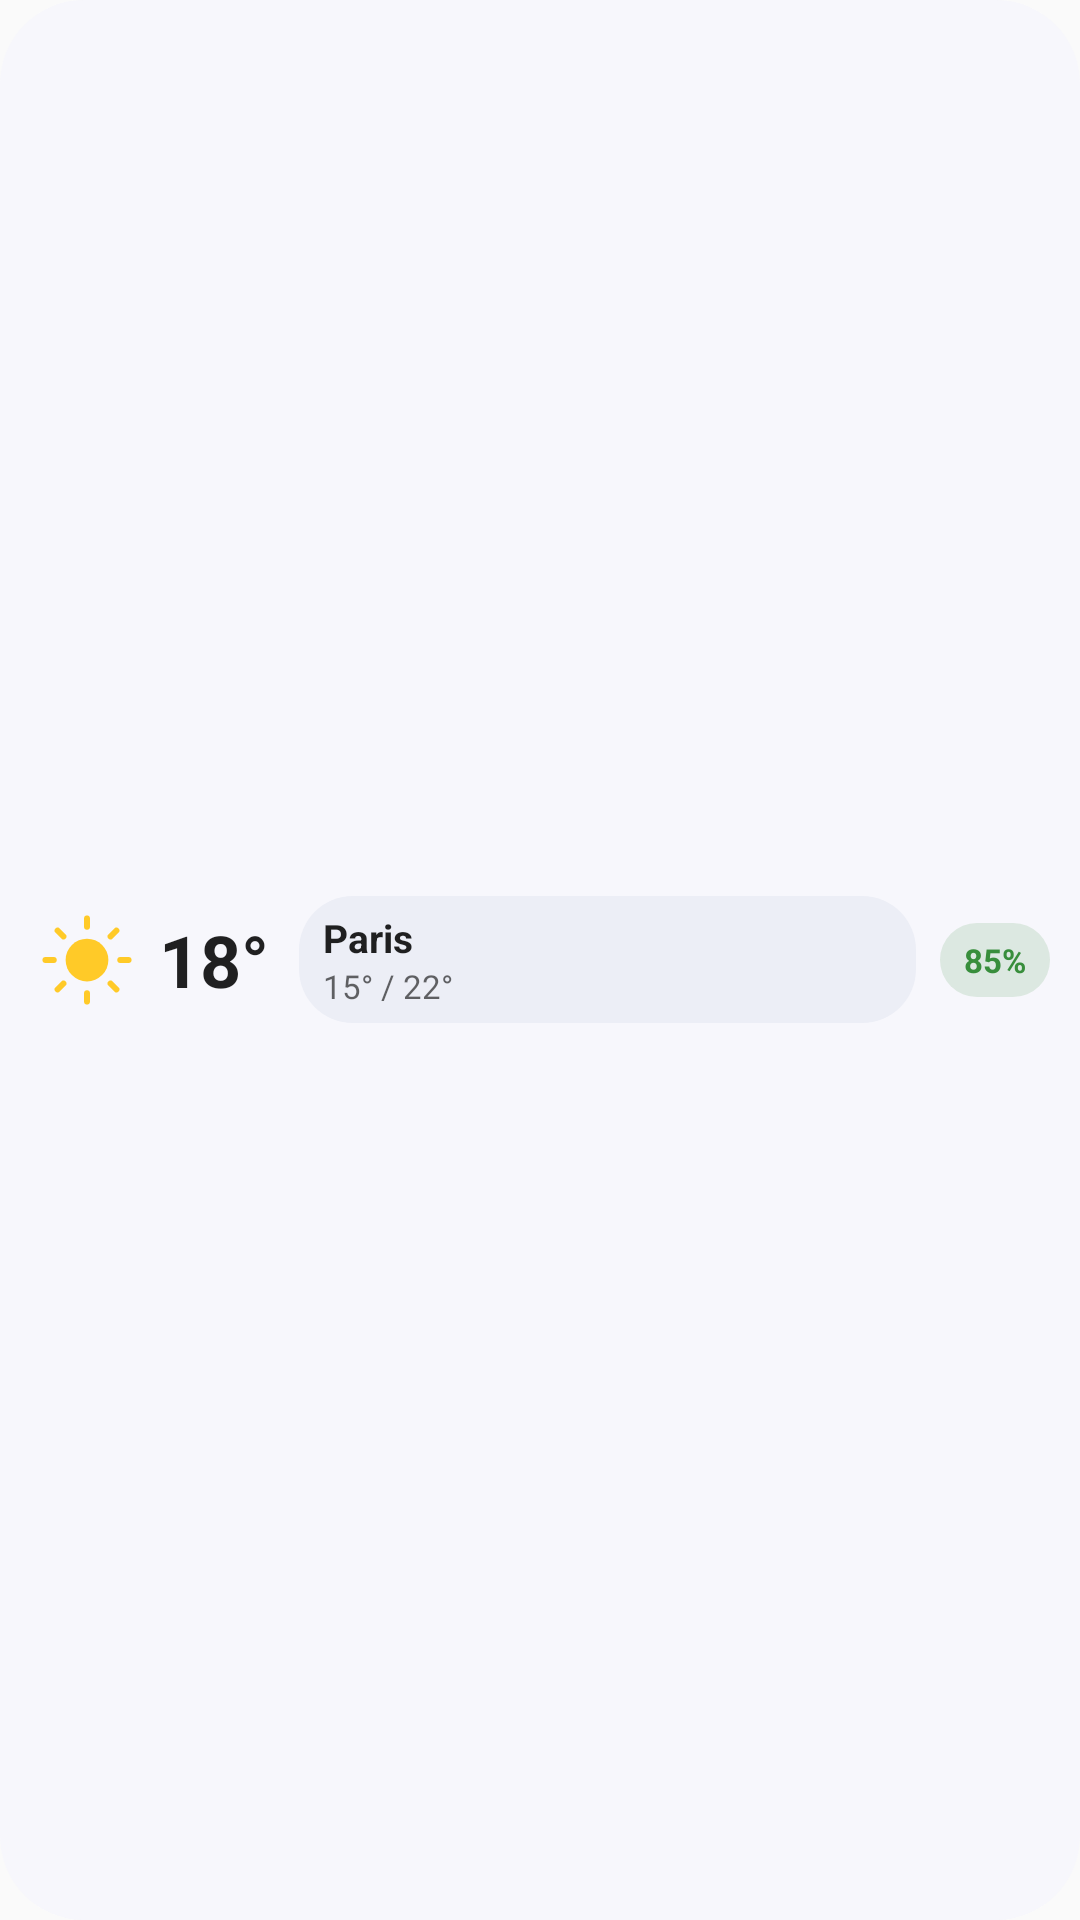

Where to tap for icons on this 1080px x 1920px app screen, as (x=x, y=y):
widget weather sun: (x=87, y=960)
